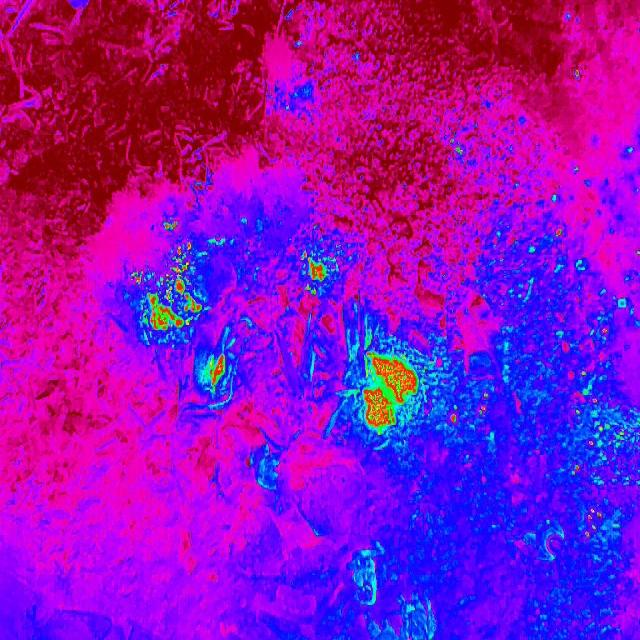fire: (547, 222, 640, 548), (350, 346, 425, 436), (130, 266, 204, 334), (198, 347, 232, 397), (445, 398, 492, 428), (300, 251, 328, 297), (165, 238, 194, 278), (445, 134, 470, 164), (161, 216, 181, 233), (568, 66, 585, 82)
